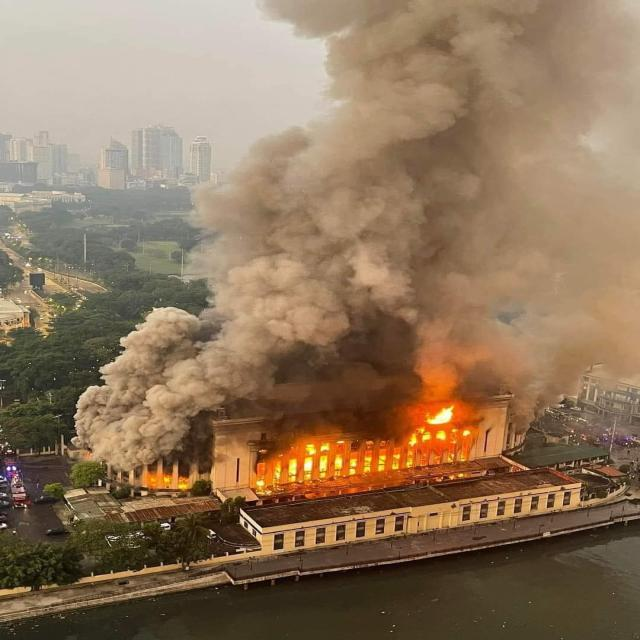Fire: (253, 444, 427, 488), (424, 405, 460, 427)
Smoke: (201, 0, 639, 397), (83, 308, 210, 464)
